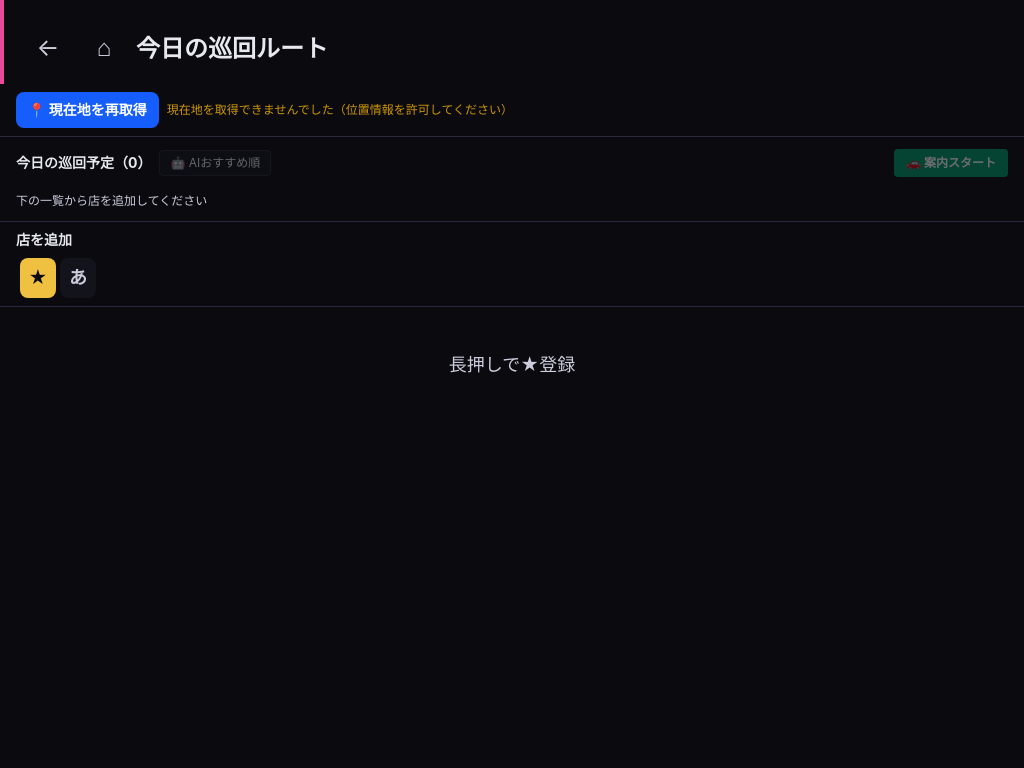
Test: D-107 AC3/AC4: KanaIndex + StoreCard 店選択、距離併存 › 削除で予定から外れる
The width and height of the screenshot is (1024, 768).
Click the button "あ": (78, 278) [60, 258, 96, 298]
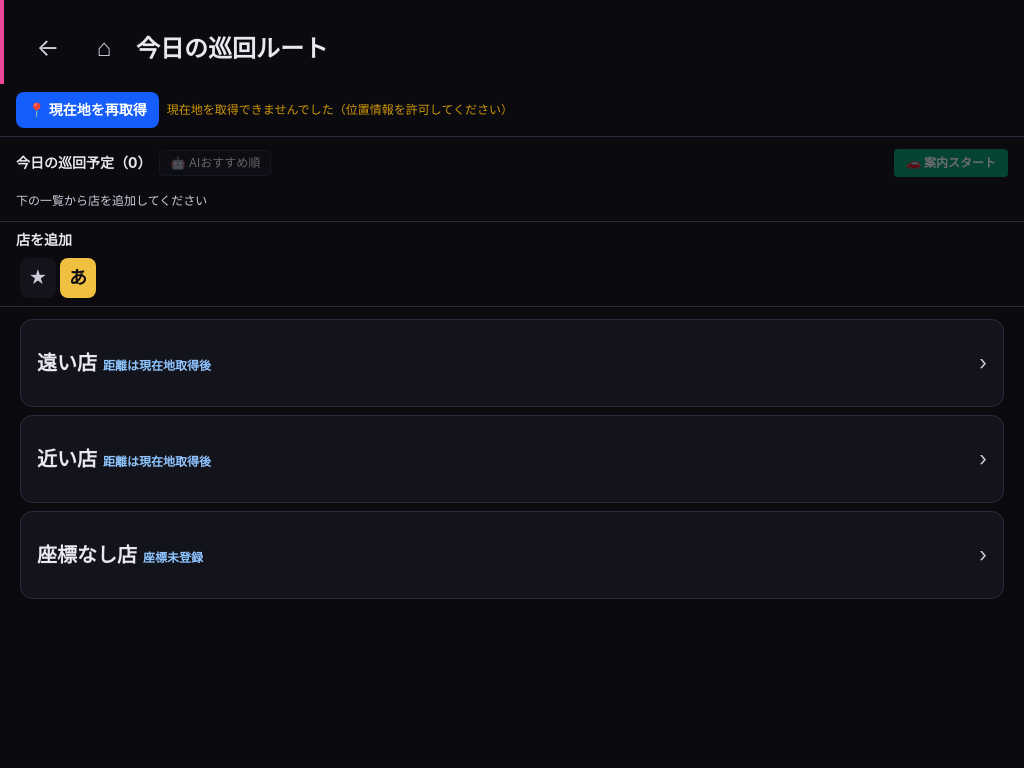
Now the button with test id "store-card-NEAR" is shown
Click the button with test id "store-card-NEAR": (67, 459) [20, 415, 1004, 503]
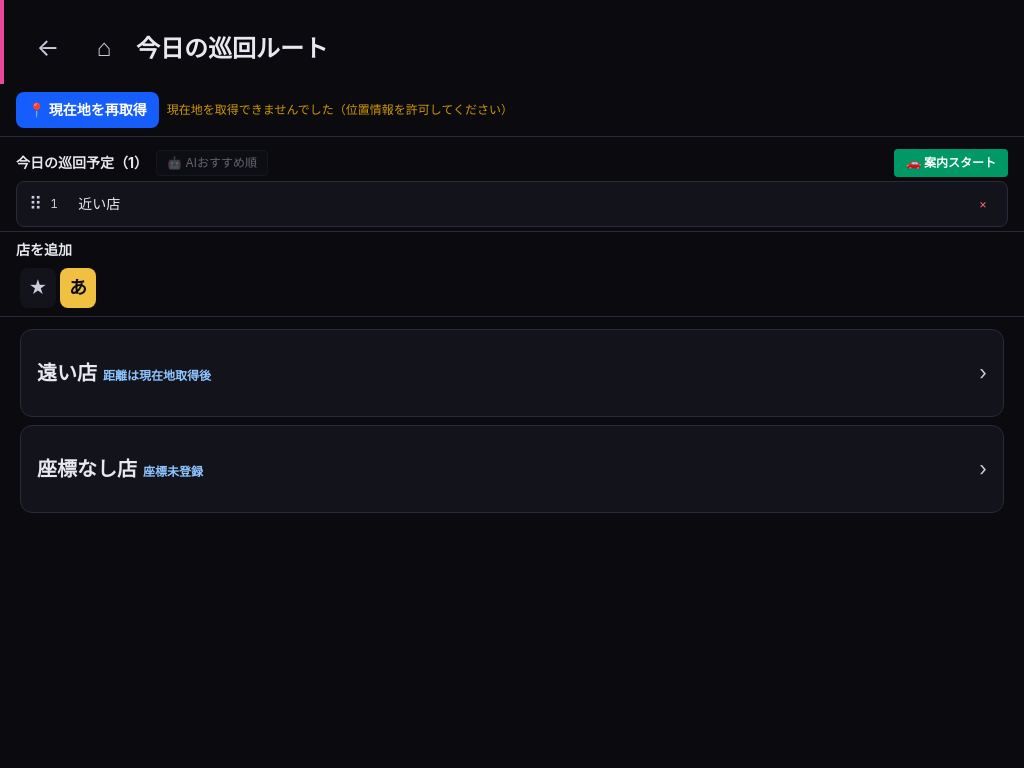
Now the element with test id "route-item-NEAR" is shown, box [16, 181, 1008, 227]
Click the button with test id "route-remove-NEAR": (983, 204) [971, 192, 995, 216]
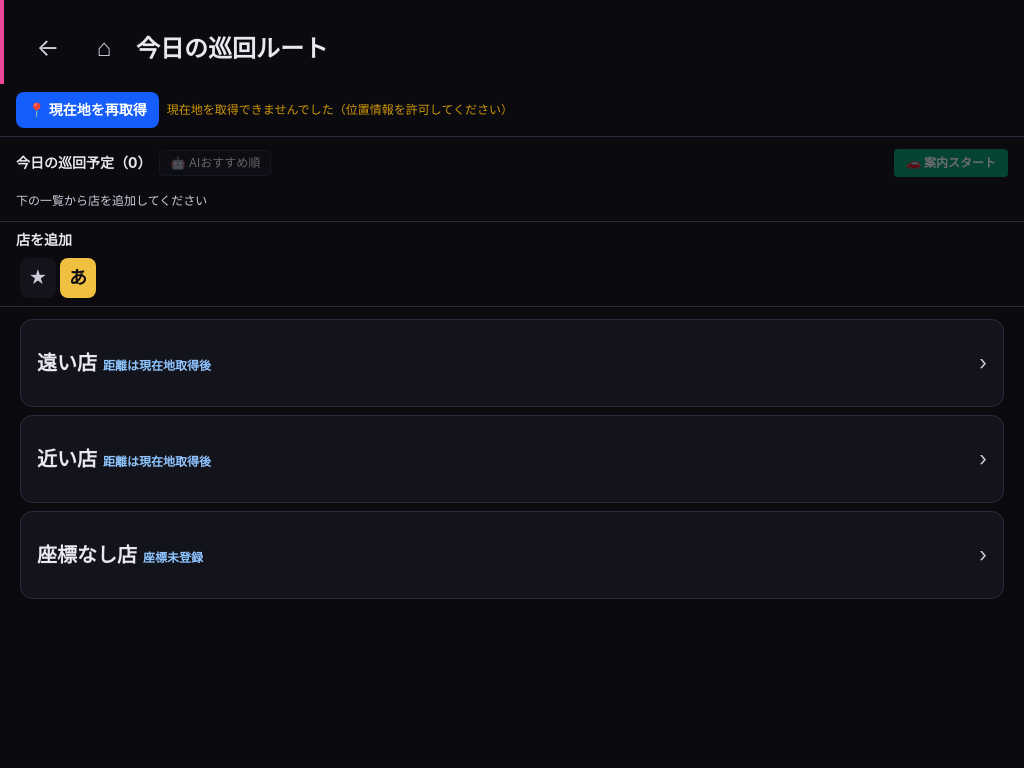
Now the element with test id "route-item-NEAR" is gone
